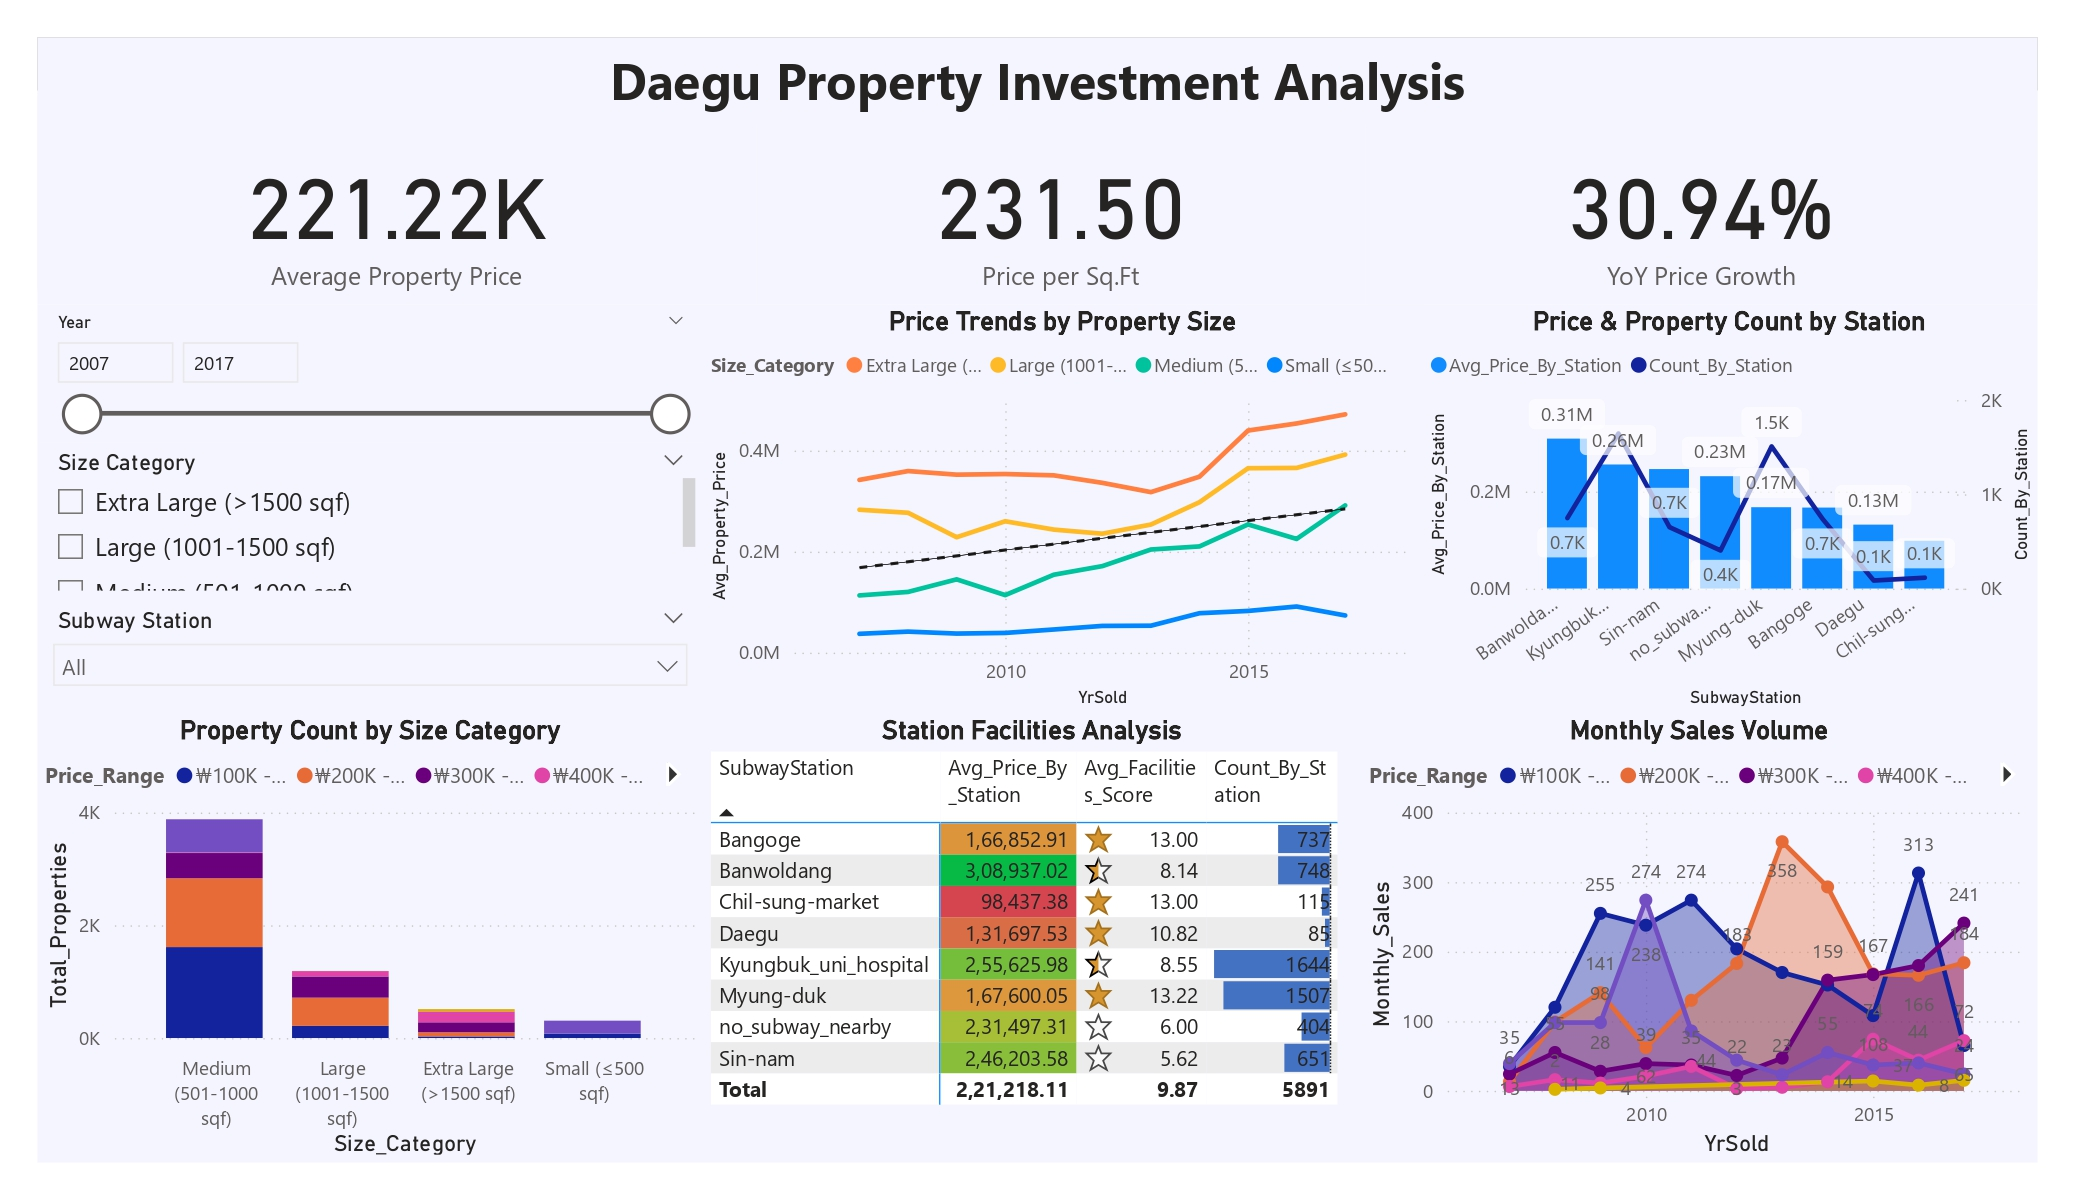

Layout of this report page (visuals, bound fields, positions):
{"tool":"powerbi","page":{"name":"Key Market Indicators and Trends","canvas":[1280,720],"ordinal":0},"visuals":[{"type":"textbox","box":[0,0,1280,55.7],"z":0},{"type":"card","fields":{"Values":["Daegu_Real_Estate_data.Avg_Property_Price"]},"box":[0,55.7,460,115.7],"z":1000},{"type":"card","fields":{"Values":["Daegu_Real_Estate_data.Price_Per_SqFt"]},"box":[460,55.7,390,115.7],"z":2000},{"type":"lineChart","title":"Price Trends by Property Size","fields":{"Category":["Daegu_Real_Estate_data.YrSold"],"Series":["Daegu_Real_Estate_data.Size_Category"],"Y":["Daegu_Real_Estate_data.Avg_Property_Price"]},"box":[425.7,171.4,460,261.4],"z":3000},{"type":"card","fields":{"Values":["Daegu_Real_Estate_data.YoY_Price_Growth"]},"box":[850,55.7,430,115.7],"z":4000},{"type":"lineClusteredColumnComboChart","title":"Price & Property Count by Station","fields":{"Category":["Daegu_Real_Estate_data.SubwayStation"],"Y":["Daegu_Real_Estate_data.Avg_Price_By_Station"],"Y2":["Daegu_Real_Estate_data.Count_By_Station"]},"box":[885.7,171.4,394.3,261.4],"z":5000},{"type":"pivotTable","title":"Station Facilities Analysis","fields":{"Rows":["Daegu_Real_Estate_data.SubwayStation"],"Values":["Daegu_Real_Estate_data.Avg_Price_By_Station","Daegu_Real_Estate_data.Avg_Facilities_Score","Daegu_Real_Estate_data.Count_By_Station"]},"box":[425.7,432.9,421.4,287.1],"z":6000},{"type":"areaChart","title":"Monthly Sales Volume","fields":{"Category":["Daegu_Real_Estate_data.YrSold","Daegu_Real_Estate_data.MonthSold"],"Series":["Daegu_Real_Estate_data.Price_Range"],"Y":["Daegu_Real_Estate_data.Monthly_Sales"]},"box":[847.1,432.9,432.9,287.1],"z":7000},{"type":"columnChart","title":"Property Count by Size Category","fields":{"Category":["Daegu_Real_Estate_data.Size_Category"],"Y":["Daegu_Real_Estate_data.Total_Properties"],"Series":["Daegu_Real_Estate_data.Price_Range"]},"box":[0,432.9,425.7,287.1],"z":8000},{"type":"slicer","fields":{"Values":["Daegu_Real_Estate_data.YrSold"]},"box":[0,171.4,425.7,87.1],"z":9000},{"type":"slicer","fields":{"Values":["Daegu_Real_Estate_data.SubwayStation"]},"box":[0,360,425.7,72.9],"z":10000},{"type":"slicer","fields":{"Values":["Daegu_Real_Estate_data.Size_Category"]},"box":[0,258.6,425.7,101.4],"z":11000}]}

Visuals, with their boxes in screenshot pixels (x1, y1, x2, y2):
textbox: <box>38,38,2038,125</box>
card - Daegu_Real_Estate_data.Avg_Property_Price: <box>38,125,756,305</box>
card - Daegu_Real_Estate_data.Price_Per_SqFt: <box>756,125,1366,305</box>
"Price Trends by Property Size" lineChart: <box>703,305,1421,714</box>
card - Daegu_Real_Estate_data.YoY_Price_Growth: <box>1366,125,2038,305</box>
"Price & Property Count by Station" lineClusteredColumnComboChart: <box>1421,305,2038,714</box>
"Station Facilities Analysis" pivotTable: <box>703,714,1361,1162</box>
"Monthly Sales Volume" areaChart: <box>1361,714,2038,1162</box>
"Property Count by Size Category" columnChart: <box>38,714,703,1162</box>
slicer - Daegu_Real_Estate_data.YrSold: <box>38,305,703,441</box>
slicer - Daegu_Real_Estate_data.SubwayStation: <box>38,600,703,714</box>
slicer - Daegu_Real_Estate_data.Size_Category: <box>38,442,703,600</box>
